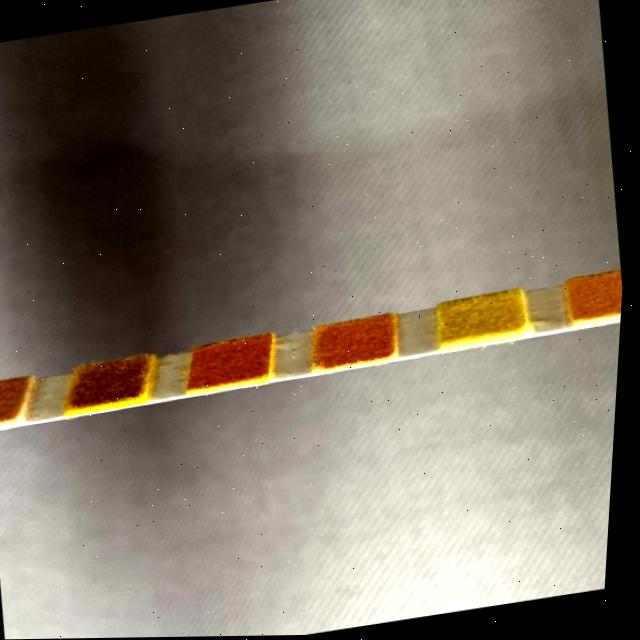Blood: (196, 339, 272, 387)
Ketone: (0, 379, 25, 422)
Protein: (446, 293, 523, 345)
SpGravity: (78, 358, 149, 405)
Urobilinogen: (578, 271, 627, 319)
pH: (321, 315, 398, 367)
